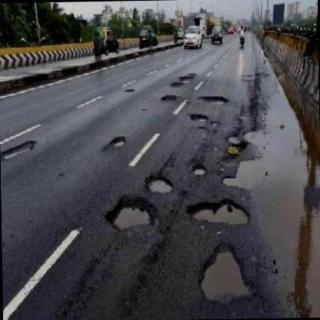pothole: (200, 246, 250, 304), (105, 195, 158, 232), (186, 199, 250, 225), (1, 141, 35, 161), (145, 174, 175, 195), (197, 95, 230, 106), (106, 135, 128, 148), (192, 165, 209, 176), (188, 114, 208, 122), (161, 95, 182, 102), (227, 137, 243, 145), (178, 76, 195, 83), (210, 121, 222, 128)
